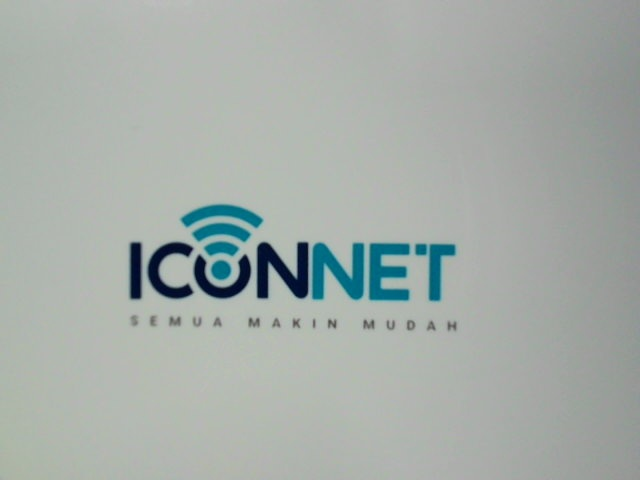BM_ICONNET: (111, 190, 476, 351)
